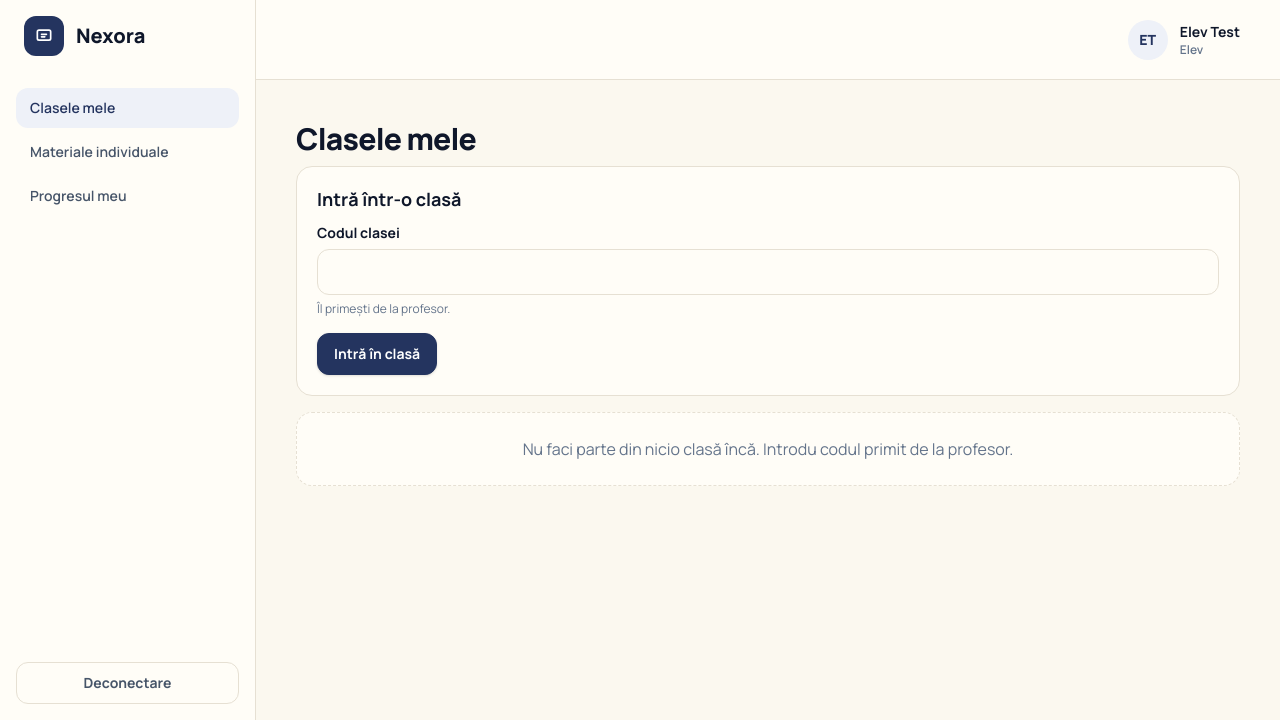
Test: signing out › reports a failed logout in Romanian and keeps the user on the page
Click the button "Deconectare" at (128,683), box [16,662,239,704]
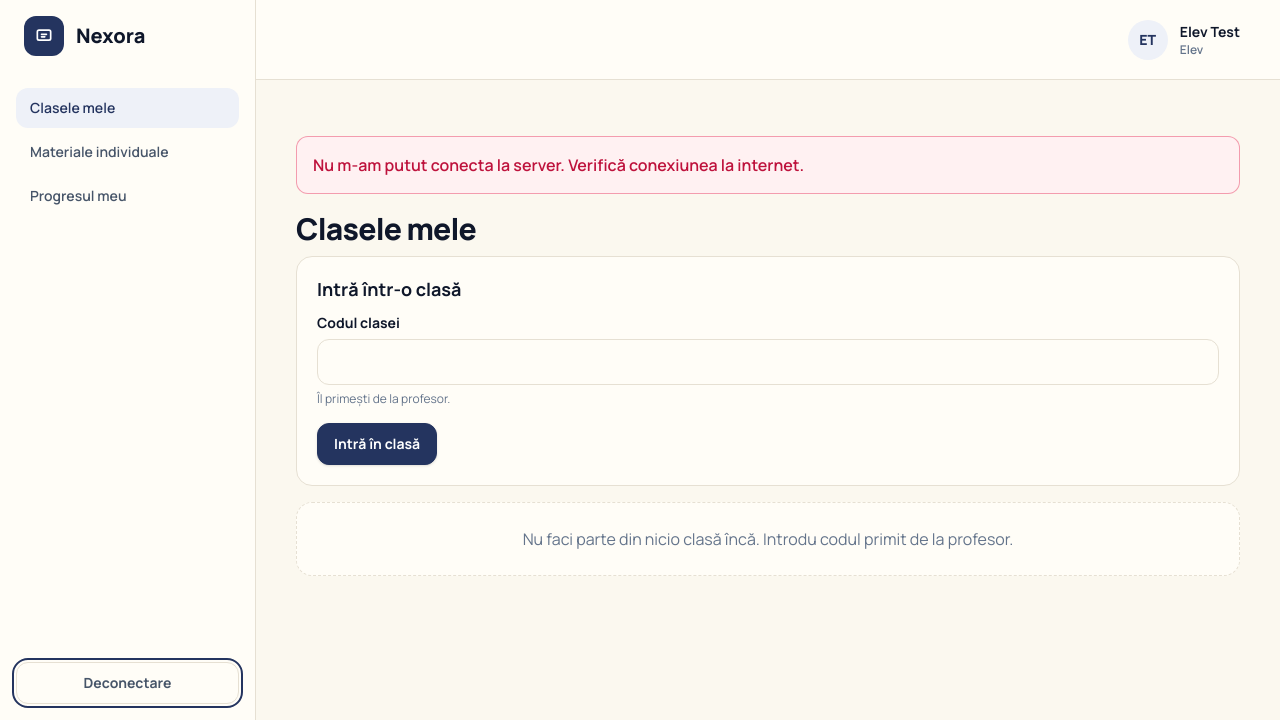
Check: the heading "Clasele mele" is shown, box [296,208,476,249]
Check: the message shows "Nu m-am putut conecta la server", box [313,154,804,176]
